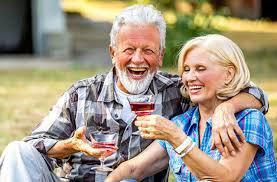Drunk: (118, 26, 158, 89), (181, 53, 214, 100)
